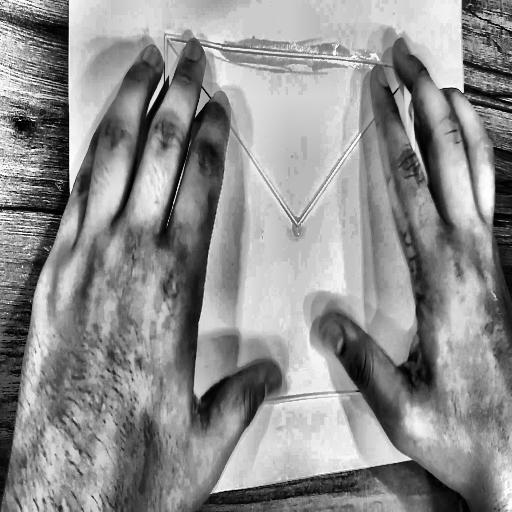bottom_right: (468, 430, 477, 447)
envelop: (160, 30, 432, 423)
